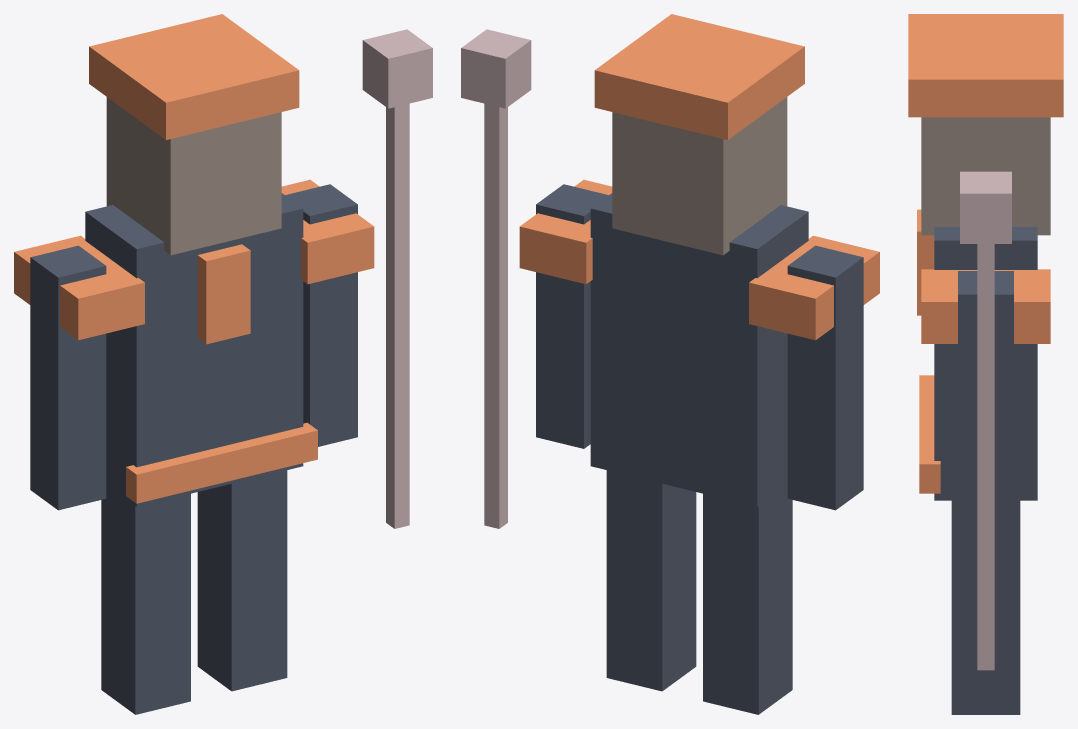
Rendered from 03_nix_cinderholt_custodian_from_defense.glb.
3 views of the same model, side by side, from view 1: azimuth 30°, elevation 25°; view 2: azimuth 150°, elevation 25°; view 3: azimuth 270°, elevation 25° (orthographic).
Visible parts, largest first — view 1: Nix Cinderholt, Custodian from Defense; view 2: Nix Cinderholt, Custodian from Defense; view 3: Nix Cinderholt, Custodian from Defense.
Part boxes in pixels (left/top/right/bottom): Nix Cinderholt, Custodian from Defense: left=14, top=14, right=432, bottom=714; Nix Cinderholt, Custodian from Defense: left=461, top=14, right=879, bottom=714; Nix Cinderholt, Custodian from Defense: left=908, top=14, right=1063, bottom=714.
Size of the model in its own units: 1.07 by 1.71 by 0.3804.
